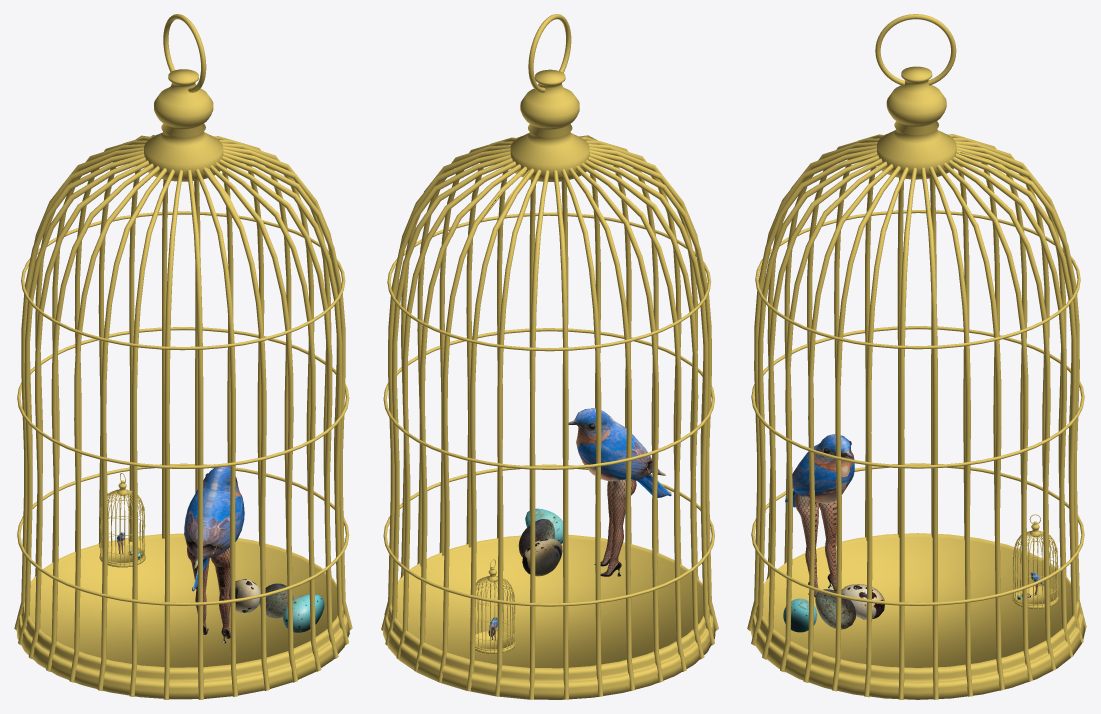
The model's file is bluebirdladyscene.gltf.
3 views of the same model, side by side, from view 1: azimuth 30°, elevation 25°; view 2: azimuth 150°, elevation 25°; view 3: azimuth 270°, elevation 25° (orthographic).
Visible parts, largest first — view 1: BezierCircle.001, birdbod.001, BezierCircle.004, Cylinder.004, Cylinder.005, Cylinder.007, Cylinder.006; view 2: BezierCircle.001, birdbod.001, BezierCircle.004, Cylinder.004, Cylinder.007, Cylinder.006; view 3: BezierCircle.001, birdbod.001, BezierCircle.004, Cylinder.004, Cylinder.006, Cylinder.007, Cylinder.005.
Part boxes in pixels (<box>): BezierCircle.001: <box>14,14,352,699</box>; birdbod.001: <box>184,466,244,591</box>; BezierCircle.004: <box>99,473,145,567</box>; Cylinder.004: <box>187,546,230,643</box>; Cylinder.005: <box>283,594,324,632</box>; Cylinder.007: <box>229,579,260,612</box>; Cylinder.006: <box>259,583,293,618</box>; BezierCircle.001: <box>381,14,718,699</box>; birdbod.001: <box>568,408,671,497</box>; BezierCircle.004: <box>469,559,515,653</box>; Cylinder.004: <box>594,479,636,576</box>; Cylinder.007: <box>522,538,562,576</box>; Cylinder.006: <box>518,519,554,557</box>; BezierCircle.001: <box>747,14,1086,699</box>; birdbod.001: <box>785,434,854,507</box>; BezierCircle.004: <box>1012,514,1058,608</box>; Cylinder.004: <box>795,493,836,597</box>; Cylinder.006: <box>815,589,856,629</box>; Cylinder.007: <box>841,584,884,619</box>; Cylinder.005: <box>783,598,817,632</box>.
Size of the model in its own units: 2215 by 4462 by 2226.
11 materials, 4 textured.
